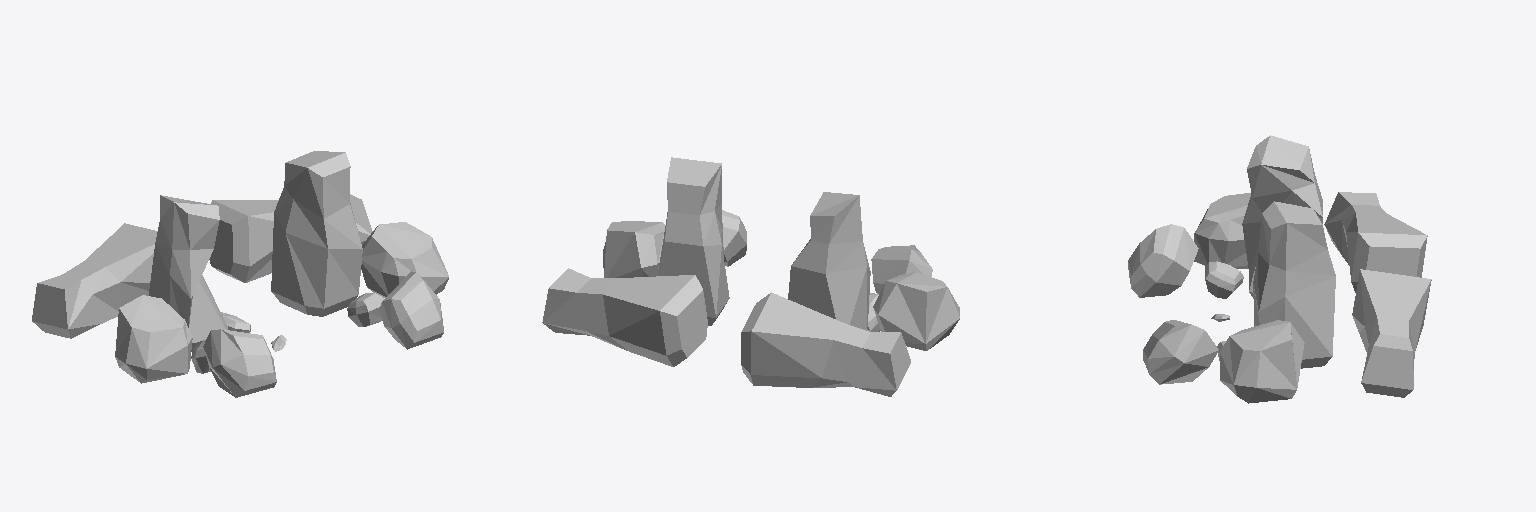
File: Ingang Minigame 3.obj
The picture shows the model from 3 angles: view 1: azimuth 30°, elevation 25°; view 2: azimuth 150°, elevation 25°; view 3: azimuth 270°, elevation 25°; orthographic projection.
Visible parts, largest first — view 1: MiniGame_3 Stone_group_2_pCube1, MiniGame_3 Stone_group_1_pCube2, MiniGame_3 Stone_group_1_pCube1, MiniGame_3 Steen_1_Stone_group_1, MiniGame_3 Stone_group_2_pCube2, MiniGame_3 Stone_group_2_Steen_1, MiniGame_3 Stone_group_1_Steen_2, MiniGame_3 Stone_group_2_Steen_2, MiniGame_3 Stone_group_2_Steen_5; view 2: MiniGame_3 Stone_group_1_pCube2, MiniGame_3 Stone_group_2_pCube2, MiniGame_3 Stone_group_1_pCube1, MiniGame_3 Stone_group_2_pCube1, MiniGame_3 Steen_1_Stone_group_1, MiniGame_3 Stone_group_2_Steen_1, MiniGame_3 Stone_group_1_Steen_2, MiniGame_3 Stone_group_2_Steen_2; view 3: MiniGame_3 Stone_group_2_pCube1, MiniGame_3 Stone_group_2_pCube2, MiniGame_3 Stone_group_1_pCube2, MiniGame_3 Stone_group_2_Steen_1, MiniGame_3 Stone_group_1_pCube1, MiniGame_3 Stone_group_1_Steen_2, MiniGame_3 Stone_group_2_Steen_2, MiniGame_3 Steen_1_Stone_group_1, MiniGame_3 Stone_group_1_Steen_5.
Part boxes in pixels (left/top/right/bottom): MiniGame_3 Stone_group_2_pCube1: left=271, top=151, right=362, bottom=316; MiniGame_3 Stone_group_1_pCube2: left=32, top=223, right=157, bottom=338; MiniGame_3 Stone_group_1_pCube1: left=149, top=195, right=227, bottom=351; MiniGame_3 Steen_1_Stone_group_1: left=115, top=295, right=192, bottom=383; MiniGame_3 Stone_group_2_pCube2: left=209, top=194, right=372, bottom=282; MiniGame_3 Stone_group_2_Steen_1: left=361, top=222, right=448, bottom=297; MiniGame_3 Stone_group_1_Steen_2: left=203, top=329, right=276, bottom=397; MiniGame_3 Stone_group_2_Steen_2: left=379, top=271, right=443, bottom=349; MiniGame_3 Stone_group_2_Steen_5: left=347, top=293, right=383, bottom=326; MiniGame_3 Stone_group_1_pCube2: left=741, top=292, right=910, bottom=396; MiniGame_3 Stone_group_2_pCube2: left=542, top=268, right=707, bottom=366; MiniGame_3 Stone_group_1_pCube1: left=788, top=192, right=870, bottom=330; MiniGame_3 Stone_group_2_pCube1: left=658, top=157, right=729, bottom=325; MiniGame_3 Steen_1_Stone_group_1: left=873, top=272, right=959, bottom=350; MiniGame_3 Stone_group_2_Steen_1: left=603, top=221, right=665, bottom=277; MiniGame_3 Stone_group_1_Steen_2: left=871, top=245, right=932, bottom=293; MiniGame_3 Stone_group_2_Steen_2: left=722, top=210, right=746, bottom=266; MiniGame_3 Stone_group_2_pCube1: left=1253, top=201, right=1335, bottom=368; MiniGame_3 Stone_group_2_pCube2: left=1352, top=269, right=1431, bottom=397; MiniGame_3 Stone_group_1_pCube2: left=1324, top=192, right=1427, bottom=292; MiniGame_3 Stone_group_2_Steen_1: left=1220, top=320, right=1304, bottom=403; MiniGame_3 Stone_group_1_pCube1: left=1242, top=135, right=1322, bottom=296; MiniGame_3 Stone_group_1_Steen_2: left=1128, top=224, right=1198, bottom=297; MiniGame_3 Stone_group_2_Steen_2: left=1143, top=320, right=1218, bottom=384; MiniGame_3 Steen_1_Stone_group_1: left=1194, top=193, right=1250, bottom=268; MiniGame_3 Stone_group_1_Steen_5: left=1205, top=261, right=1243, bottom=298.
Bounding box in the file's own units: 0.1034 × 0.0439 × 0.0769.